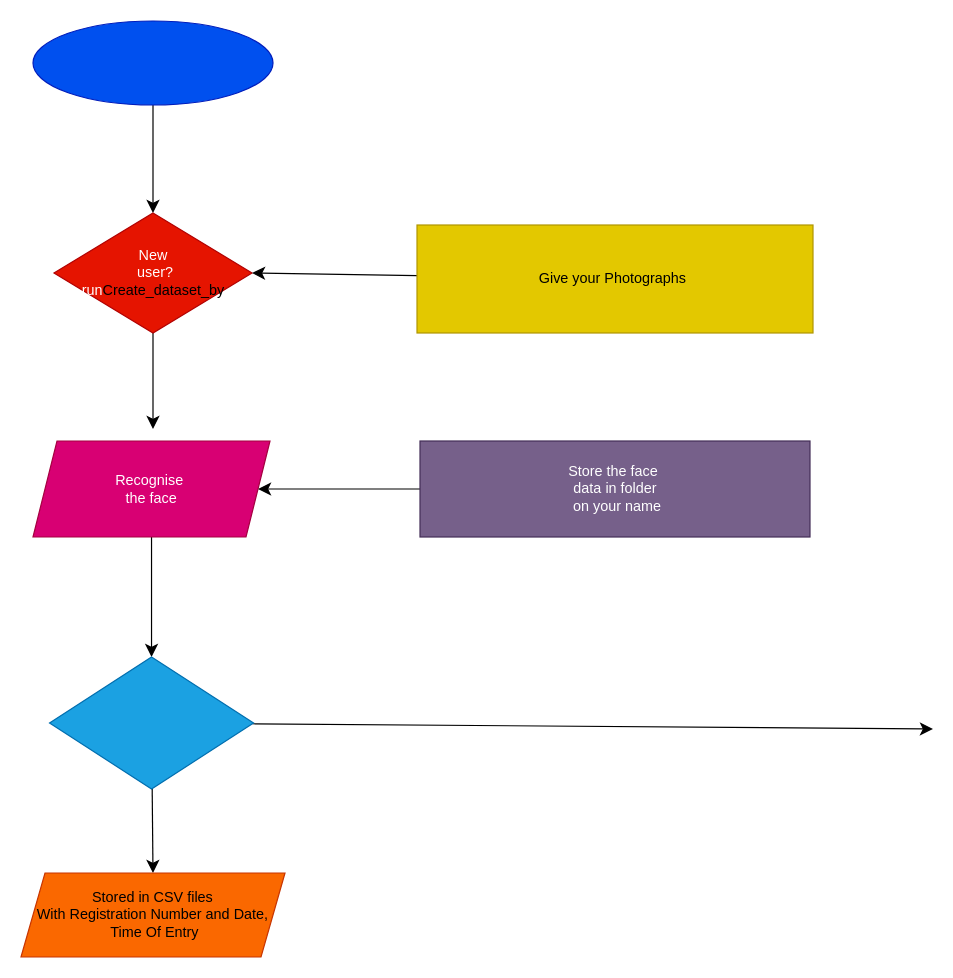
This 953x978 diagram has some shape labels left out. Here are the shapes that lost their labels. From the top down, the box of each, then its label:
(32, 20, 273, 105): Start
(48, 656, 254, 789): Face Recognized
